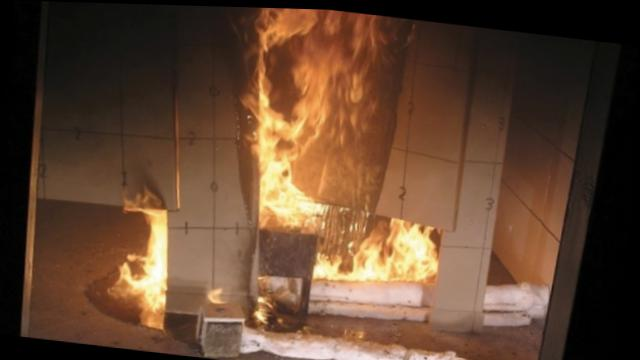fire: (221, 7, 474, 301), (106, 191, 179, 330)
